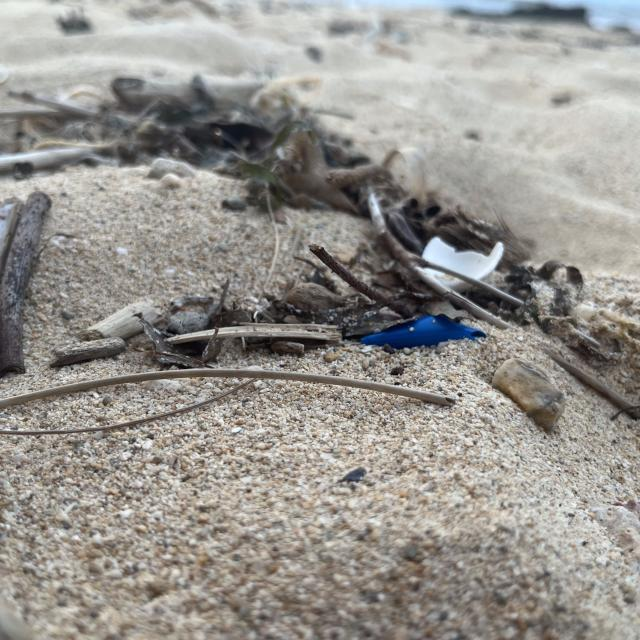seaweed: (7, 71, 431, 219)
shell: (418, 234, 511, 289)
stick: (1, 181, 46, 388)
trash: (354, 310, 488, 355)
